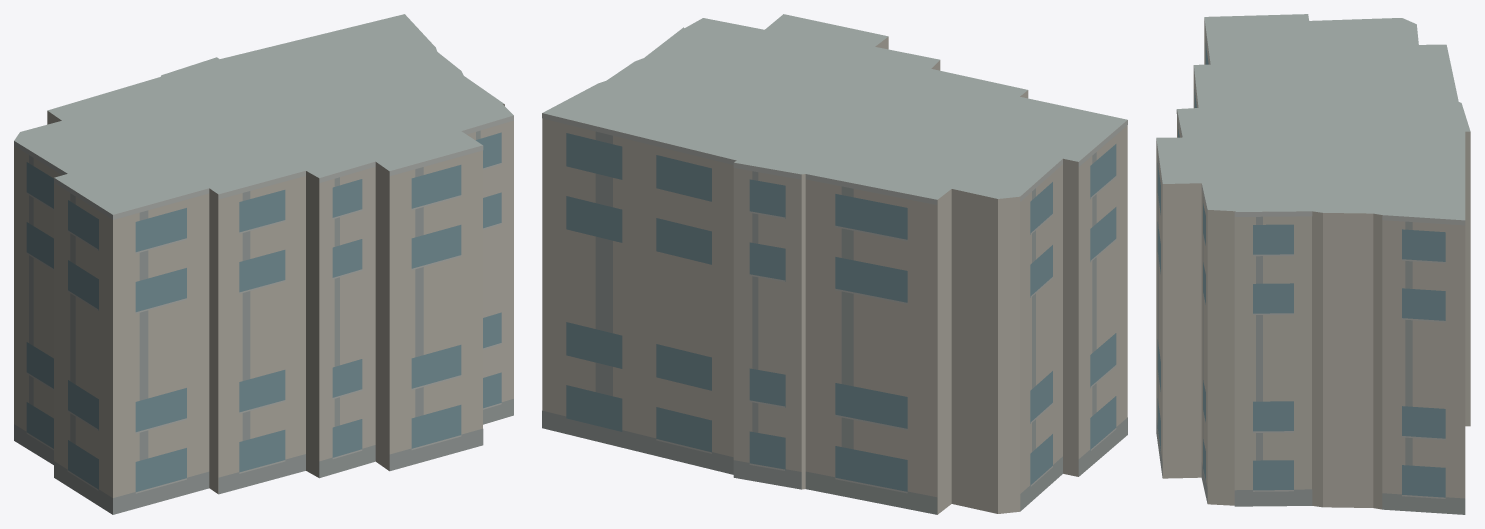
File: survey-upis-32832796.glb
The picture shows the model from 3 angles, left to right: view 1: azimuth 30°, elevation 25°; view 2: azimuth 150°, elevation 25°; view 3: azimuth 270°, elevation 25°; orthographic projection. The views are drawn at different scales.
Visible parts, largest first — view 1: survey-upis-32832796.tmp; view 2: survey-upis-32832796.tmp; view 3: survey-upis-32832796.tmp.
Part boxes in pixels (x1,y1,x2,y2): survey-upis-32832796.tmp: (14,14,513,514); survey-upis-32832796.tmp: (542,14,1127,514); survey-upis-32832796.tmp: (1156,14,1470,514).
Size of the model in its own units: 21.57 by 14.35 by 13.89.
